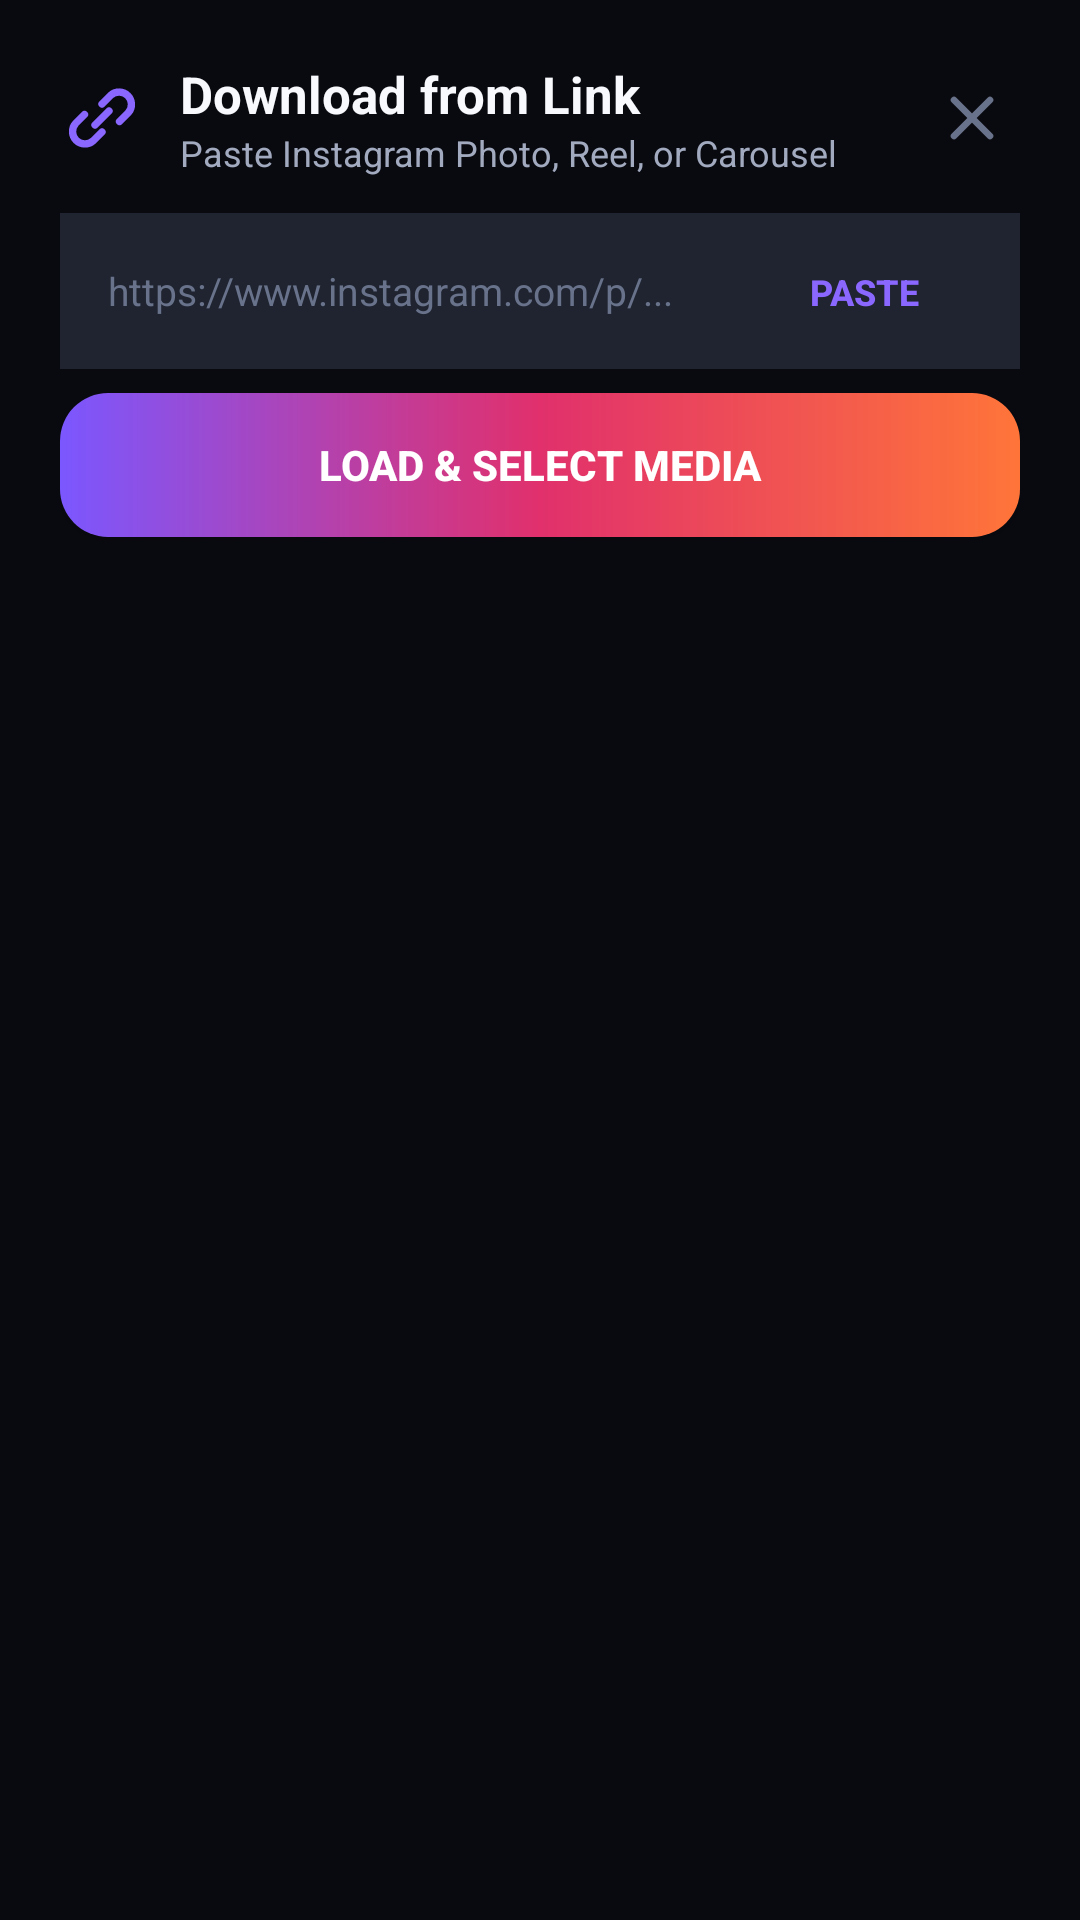

Icons on this 1080 × 1920 Android screen, each with its box as (x1, y1, x2, y2):
Close: (950, 96, 994, 140)
